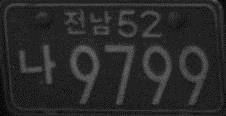2: (140, 8, 163, 41)
5: (117, 8, 139, 38)
7: (103, 42, 135, 107)
9: (69, 44, 101, 107), (141, 43, 173, 106), (177, 44, 209, 107)
나: (18, 44, 56, 85)
전남_O: (62, 9, 112, 36)
